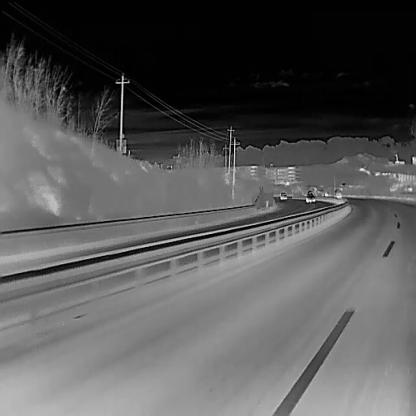car: (304, 192, 315, 204), (333, 188, 342, 198), (279, 192, 287, 200), (320, 189, 328, 196)
